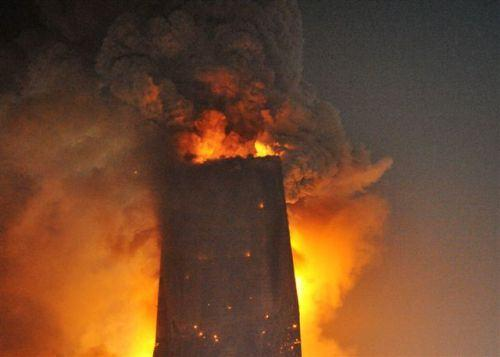fire: (298, 214, 349, 304), (185, 121, 274, 162)
smoke: (103, 11, 324, 123)
